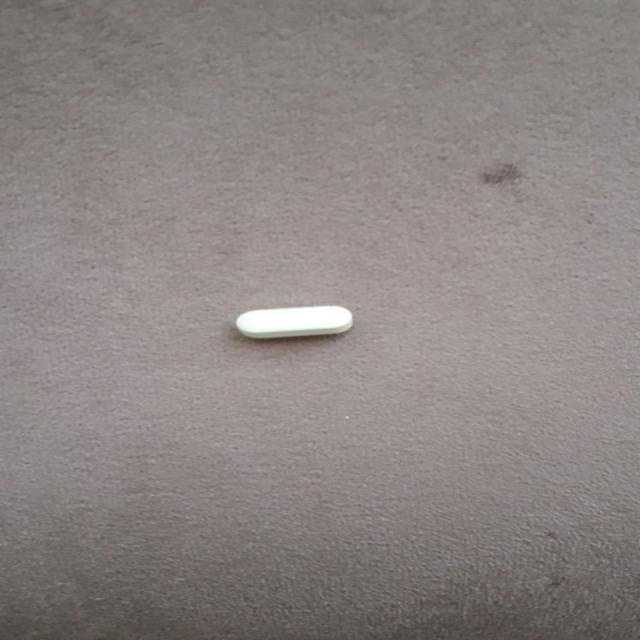pills: (219, 292, 376, 352)
